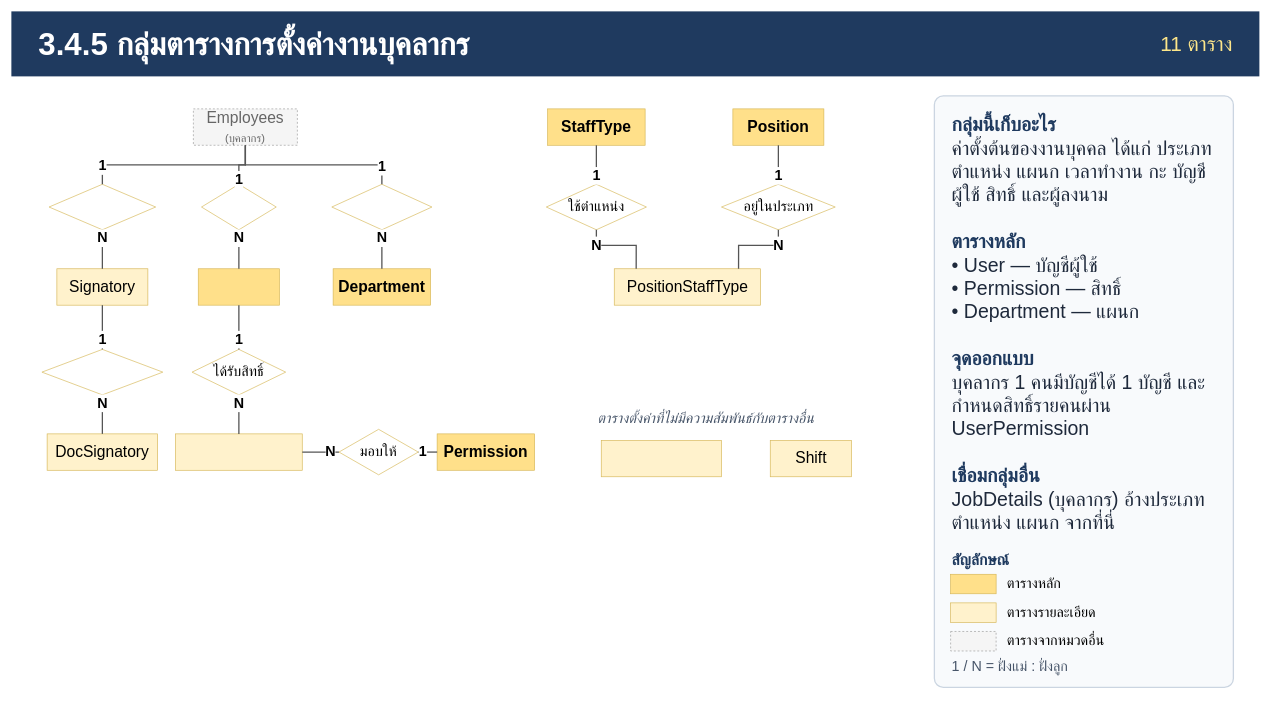
Image size: 1270x724. Some labels were removed from this diagram. The centre of each missing label's shape, as x and y in pixels:
StaffWorkTime: the point at 661,458
User: the point at 239,286
UserPermission: the point at 238,451
มีบัญชี: the point at 238,207
ลงนามเอกสาร: the point at 102,372
เป็นผู้ลงนาม: the point at 102,207
เป็นหัวหน้า: the point at 381,207
